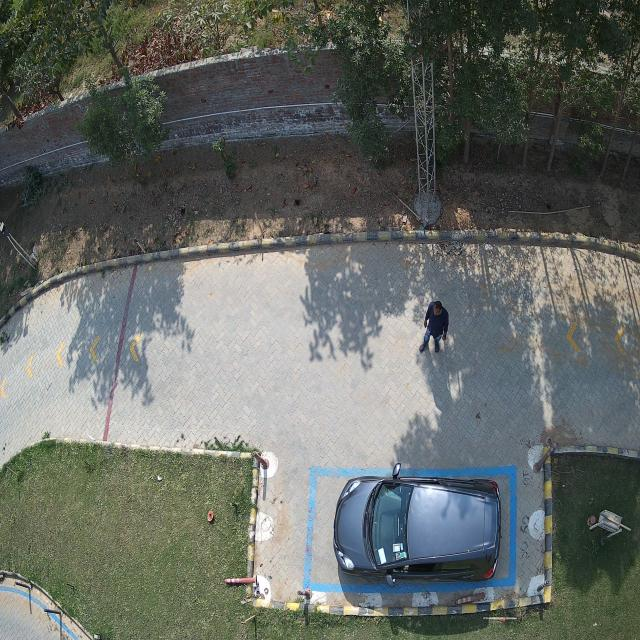car: (334, 467, 501, 587)
